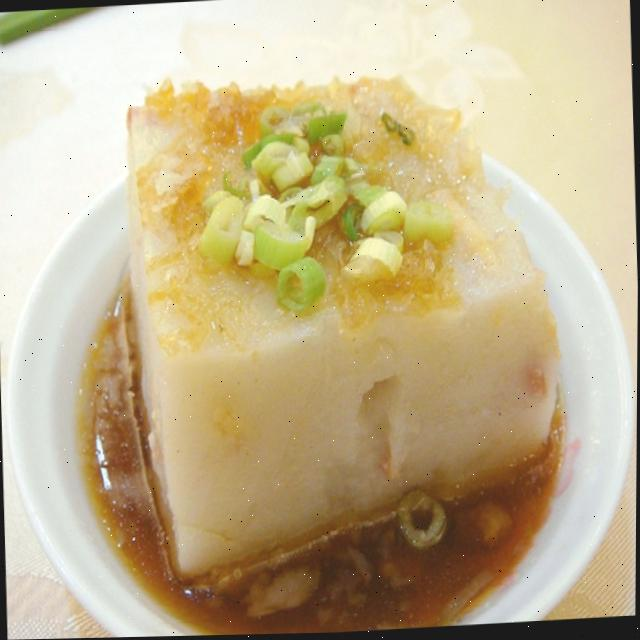蛋糕甜品: (69, 34, 562, 575)
